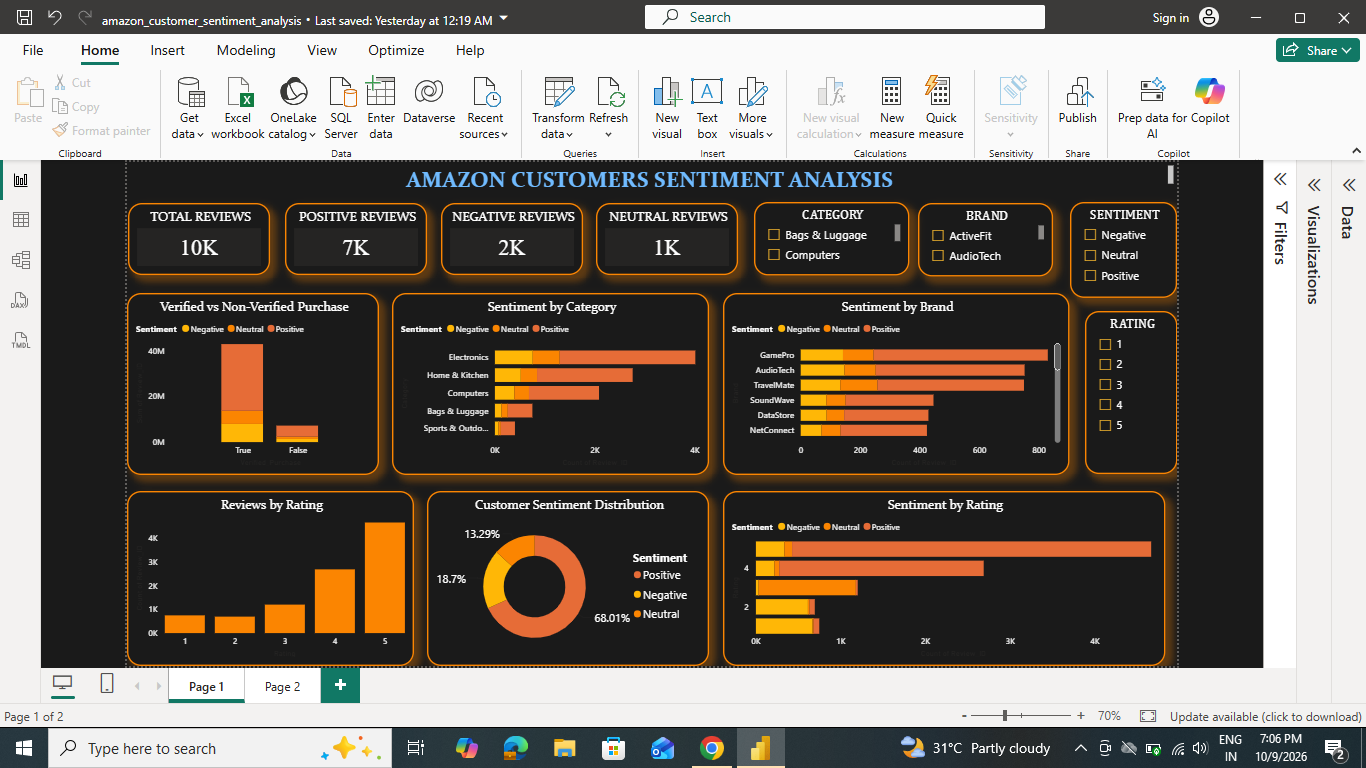

Layout of this report page (visuals, bound fields, positions):
{"tool":"powerbi","page":{"name":"Page 1","canvas":[1500,720],"ordinal":0},"visuals":[{"type":"textbox","box":[0,0,1500,41.8],"z":0},{"type":"donutChart","title":"Customer Sentiment Distribution","fields":{"Category":["amazon_customer_sentiment_cleaned_dashboard.Sentiment"],"Y":["CountNonNull(amazon_customer_sentiment_cleaned_dashboard.Review_ID)"]},"box":[428.3,470,403.3,250],"z":1000},{"type":"clusteredColumnChart","title":"Reviews by Rating","fields":{"Category":["amazon_customer_sentiment_cleaned_dashboard.Rating"],"Y":["CountNonNull(amazon_customer_sentiment_cleaned_dashboard.Review_ID)"]},"box":[0,470,410,250],"z":2000},{"type":"barChart","title":"Sentiment by Rating","fields":{"Category":["amazon_customer_sentiment_cleaned_dashboard.Rating"],"Y":["CountNonNull(amazon_customer_sentiment_cleaned_dashboard.Review_ID)"],"Series":["amazon_customer_sentiment_cleaned_dashboard.Sentiment"]},"box":[851.7,470,631.7,250],"z":3000},{"type":"barChart","title":"Sentiment by Category","fields":{"Category":["amazon_customer_sentiment_cleaned_dashboard.Category"],"Y":["CountNonNull(amazon_customer_sentiment_cleaned_dashboard.Review_ID)"],"Series":["amazon_customer_sentiment_cleaned_dashboard.Sentiment"]},"box":[378.3,186.7,453.3,260],"z":4000},{"type":"columnChart","title":"Verified vs Non-Verified Purchase","fields":{"Category":["Reviews.Verified_Purchase"],"Y":["Sum(Reviews.Review_ID)"],"Series":["Reviews.Sentiment"]},"box":[0,186.7,360,260],"z":5000},{"type":"cardVisual","title":"TOTAL REVIEWS","fields":{"Data":["Reviews.Total Reviews"]},"box":[1.7,58.3,203.3,103.3],"z":6000},{"type":"cardVisual","title":"POSITIVE REVIEWS","fields":{"Data":["Reviews.Positive Reviews"]},"box":[225,58.3,203.3,103.3],"z":7000},{"type":"cardVisual","title":"NEGATIVE REVIEWS","fields":{"Data":["Reviews.Negative Reviews"]},"box":[448.3,58.3,203.3,103.3],"z":8000},{"type":"cardVisual","title":"NEUTRAL REVIEWS","fields":{"Data":["Reviews.Neutral Reviews"]},"box":[670,58.3,203.3,103.3],"z":9000},{"type":"slicer","title":"CATEGORY","fields":{"Values":["Reviews.Category"]},"box":[895,56.7,221.7,105],"z":10000},{"type":"slicer","title":"RATING","fields":{"Values":["Reviews.Rating"]},"box":[1368.3,213.3,131.7,233.3],"z":11000},{"type":"slicer","title":"BRAND","fields":{"Values":["Reviews.Brand"]},"box":[1130,58.3,193.3,105],"z":12000},{"type":"slicer","title":"SENTIMENT","fields":{"Values":["Reviews.Sentiment"]},"box":[1346.7,56.7,153.3,136.7],"z":13000},{"type":"barChart","title":"Sentiment by Brand","fields":{"Y":["CountNonNull(amazon_customer_sentiment_cleaned_dashboard.Review_ID)"],"Series":["amazon_customer_sentiment_cleaned_dashboard.Sentiment"],"Category":["Reviews.Brand"]},"box":[851.7,186.7,495,260],"z":14000}]}

Visuals, with their boxes on the page's 1500x720 design canvas (x1, y1, x2, y2). These are canvas units, not pixel positions in the 1366x768 screenshot, which may show the page scaled, cropped or inside an application window:
textbox: locate(0, 0, 1500, 42)
"Customer Sentiment Distribution" donutChart: locate(428, 470, 832, 720)
"Reviews by Rating" clusteredColumnChart: locate(0, 470, 410, 720)
"Sentiment by Rating" barChart: locate(852, 470, 1483, 720)
"Sentiment by Category" barChart: locate(378, 187, 832, 447)
"Verified vs Non-Verified Purchase" columnChart: locate(0, 187, 360, 447)
"TOTAL REVIEWS" cardVisual: locate(2, 58, 205, 162)
"POSITIVE REVIEWS" cardVisual: locate(225, 58, 428, 162)
"NEGATIVE REVIEWS" cardVisual: locate(448, 58, 652, 162)
"NEUTRAL REVIEWS" cardVisual: locate(670, 58, 873, 162)
"CATEGORY" slicer: locate(895, 57, 1117, 162)
"RATING" slicer: locate(1368, 213, 1500, 447)
"BRAND" slicer: locate(1130, 58, 1323, 163)
"SENTIMENT" slicer: locate(1347, 57, 1500, 193)
"Sentiment by Brand" barChart: locate(852, 187, 1347, 447)
